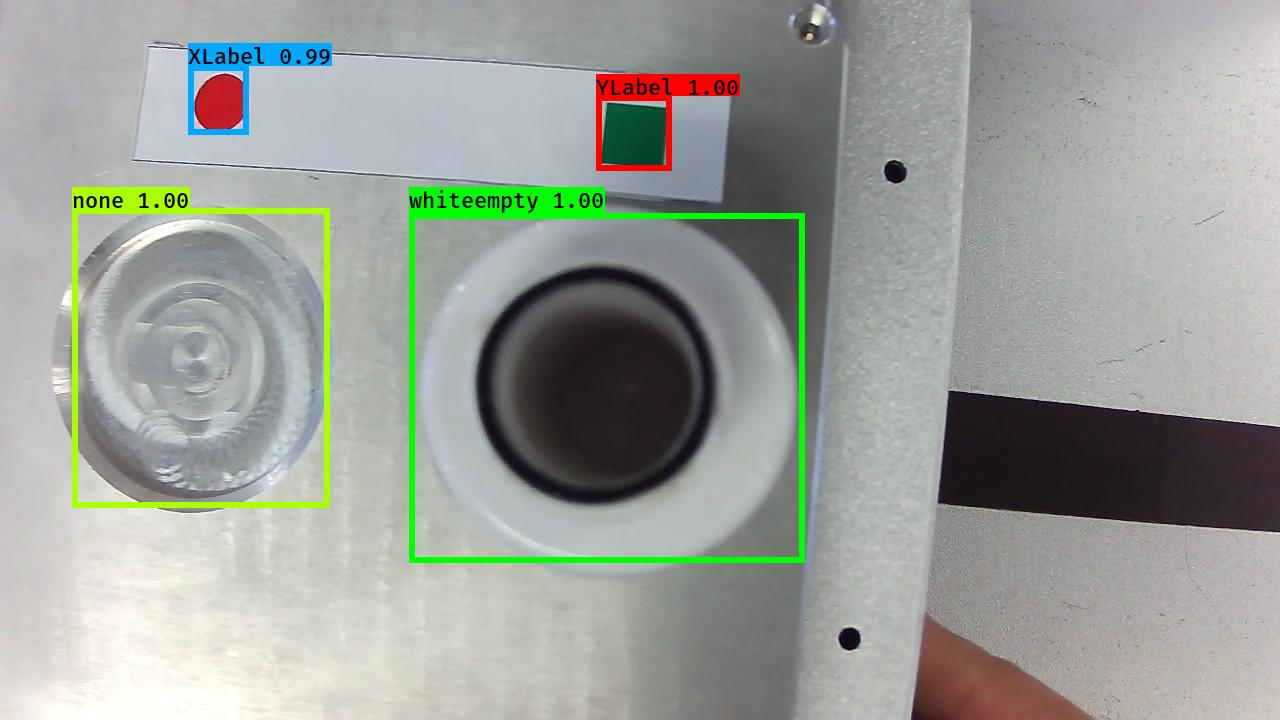XLabel: (190, 72, 250, 135)
YLabel: (601, 99, 673, 177)
none: (43, 200, 331, 515)
whiteempty: (412, 205, 799, 579)
